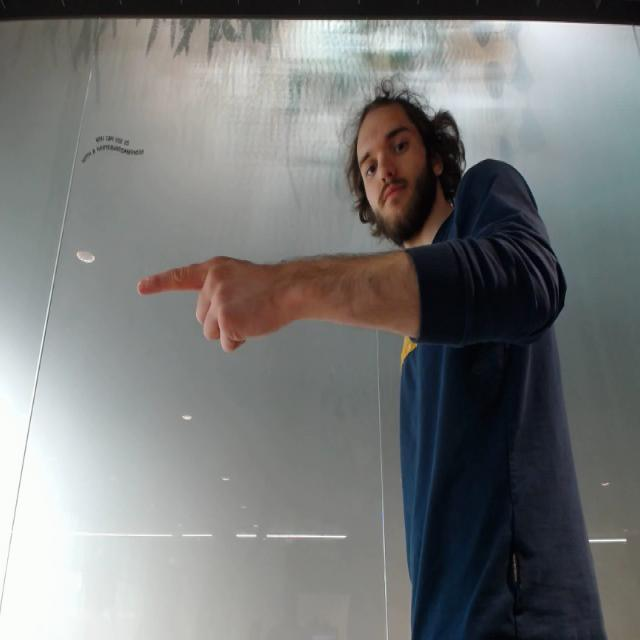left: (133, 248, 299, 356)
